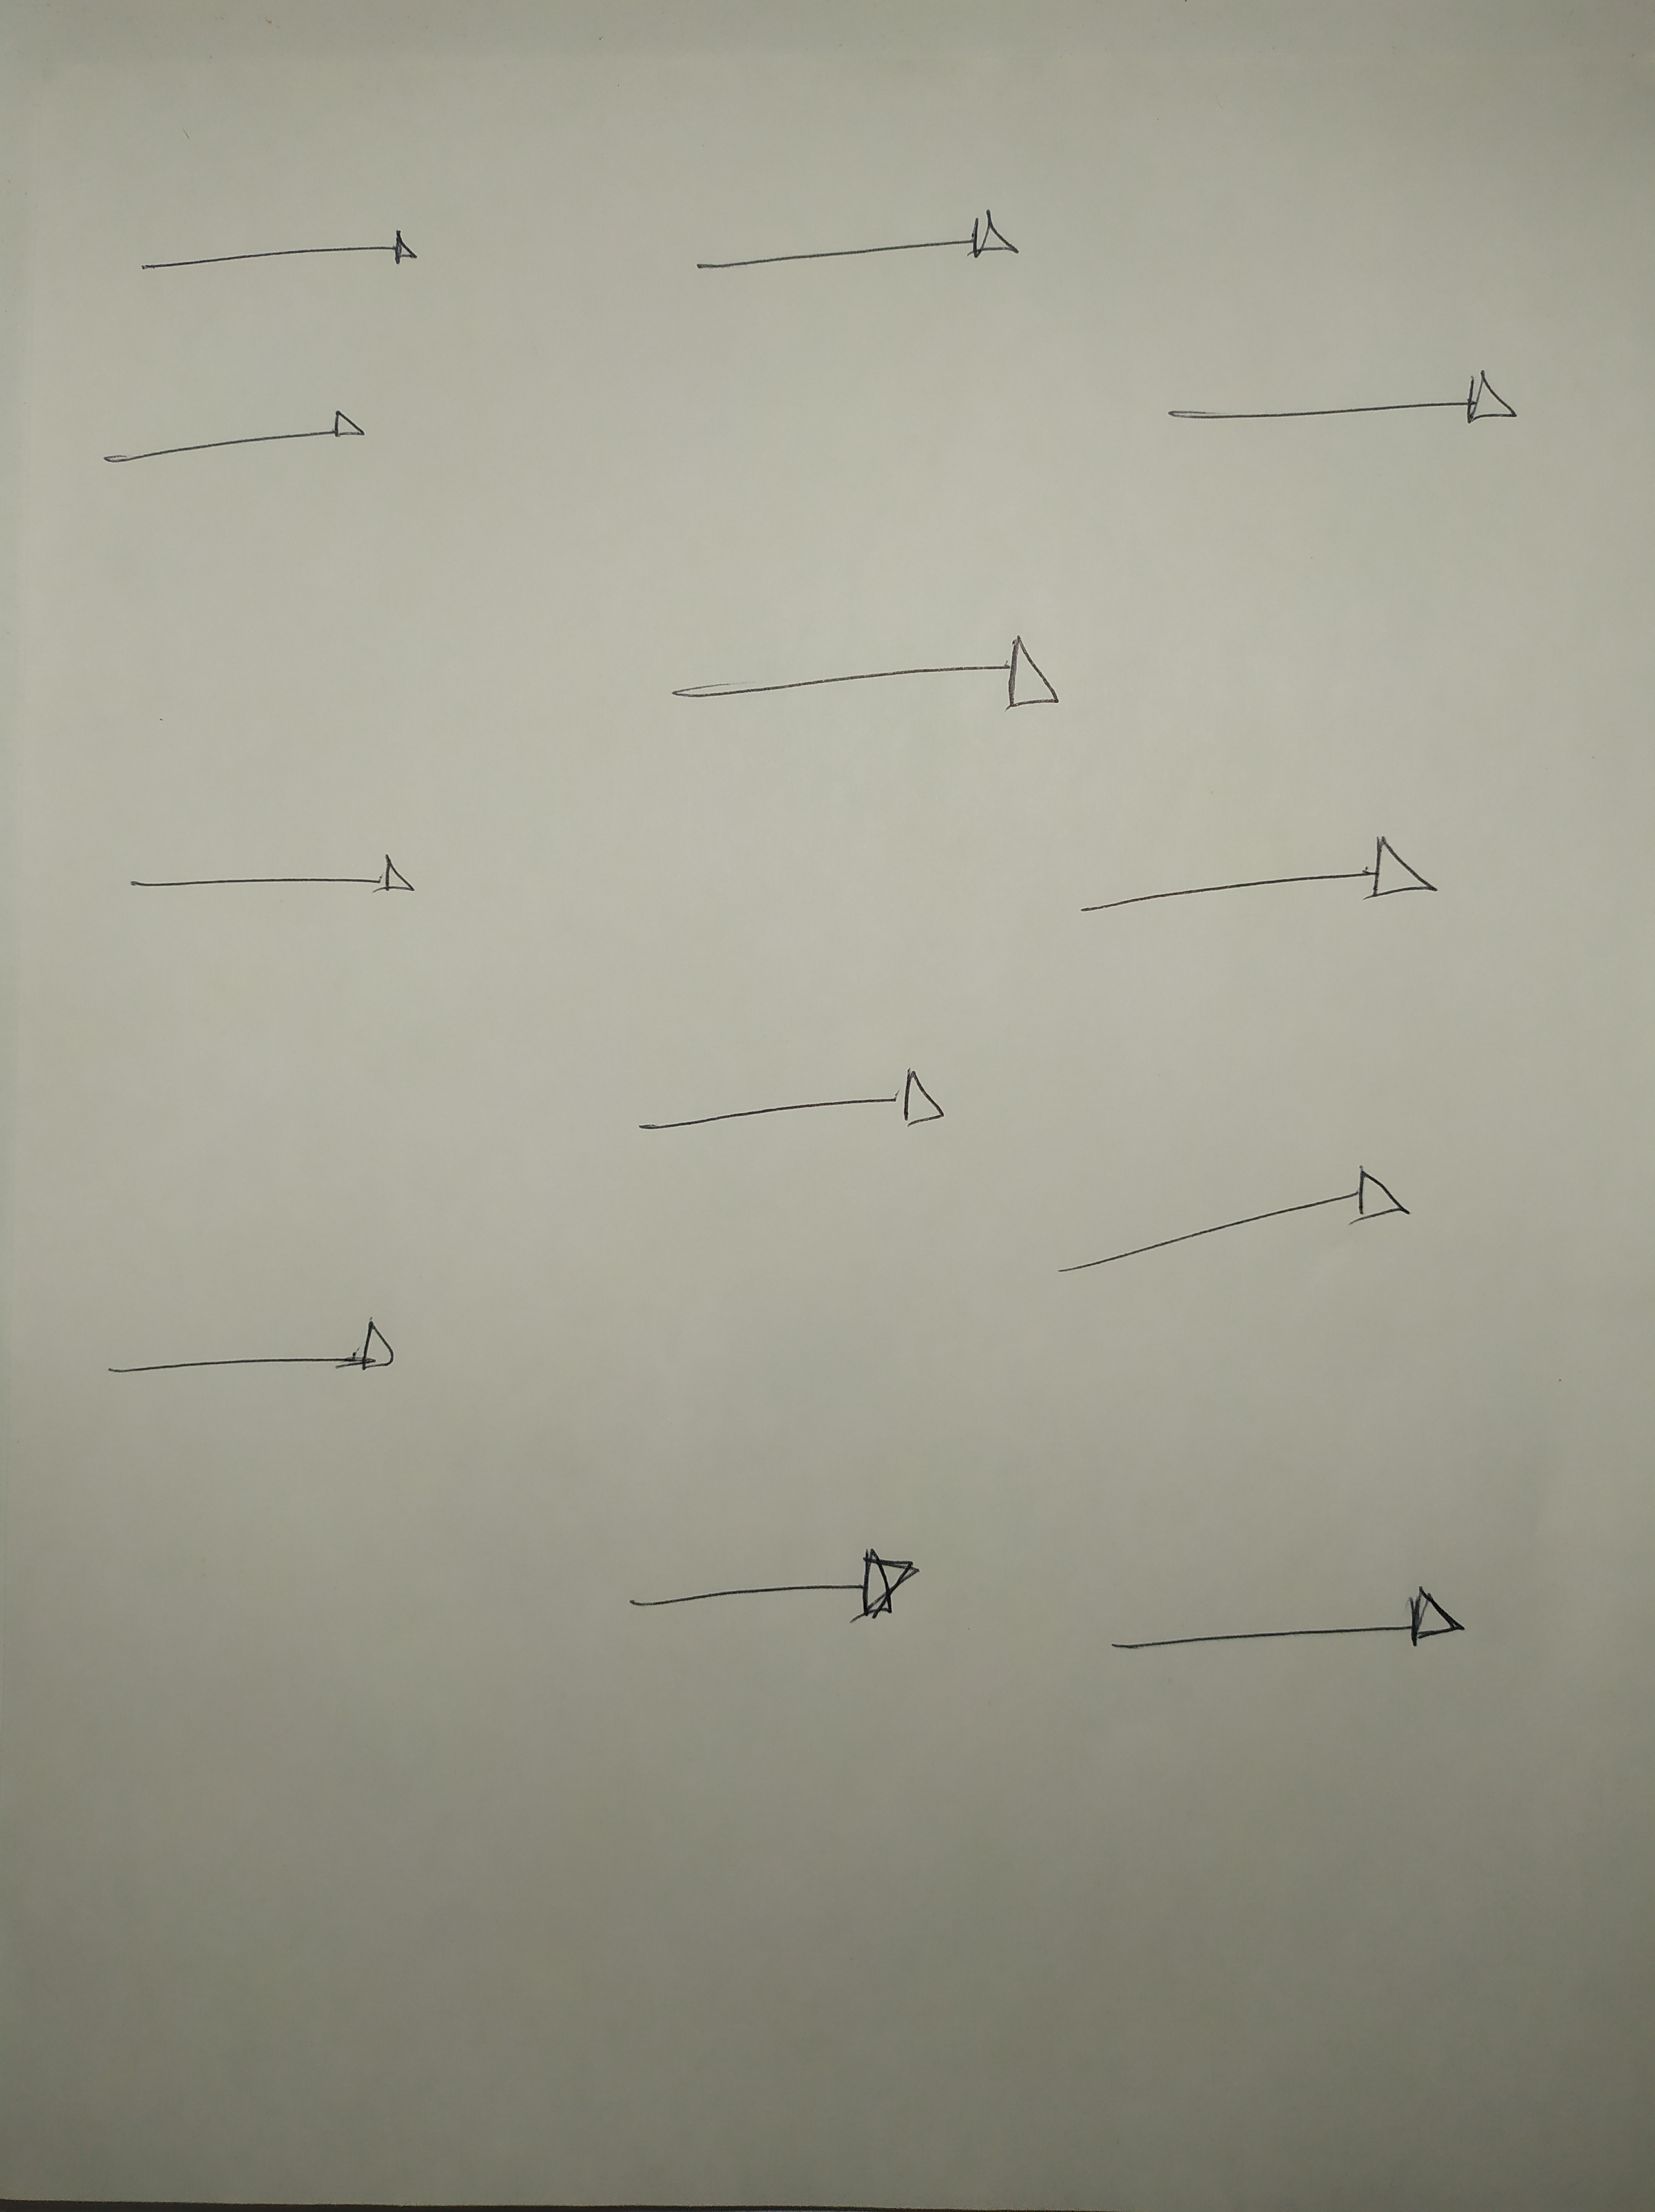arrow_line_right: (1074, 1553, 1499, 1696), (1040, 820, 1497, 947), (1040, 1145, 1448, 1286), (596, 1507, 968, 1659), (635, 627, 1114, 742), (73, 1300, 449, 1437), (1139, 341, 1566, 452), (633, 1046, 979, 1166), (664, 198, 1057, 295), (82, 391, 409, 487), (106, 836, 442, 923), (111, 215, 442, 283)
